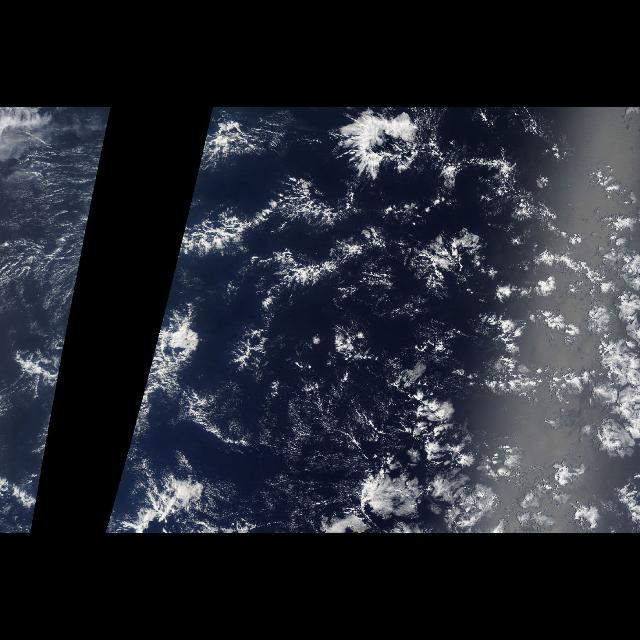Flower: (240, 108, 508, 324)
Gravel: (272, 400, 401, 528)
Sugar: (216, 324, 396, 506), (1, 110, 104, 346)
